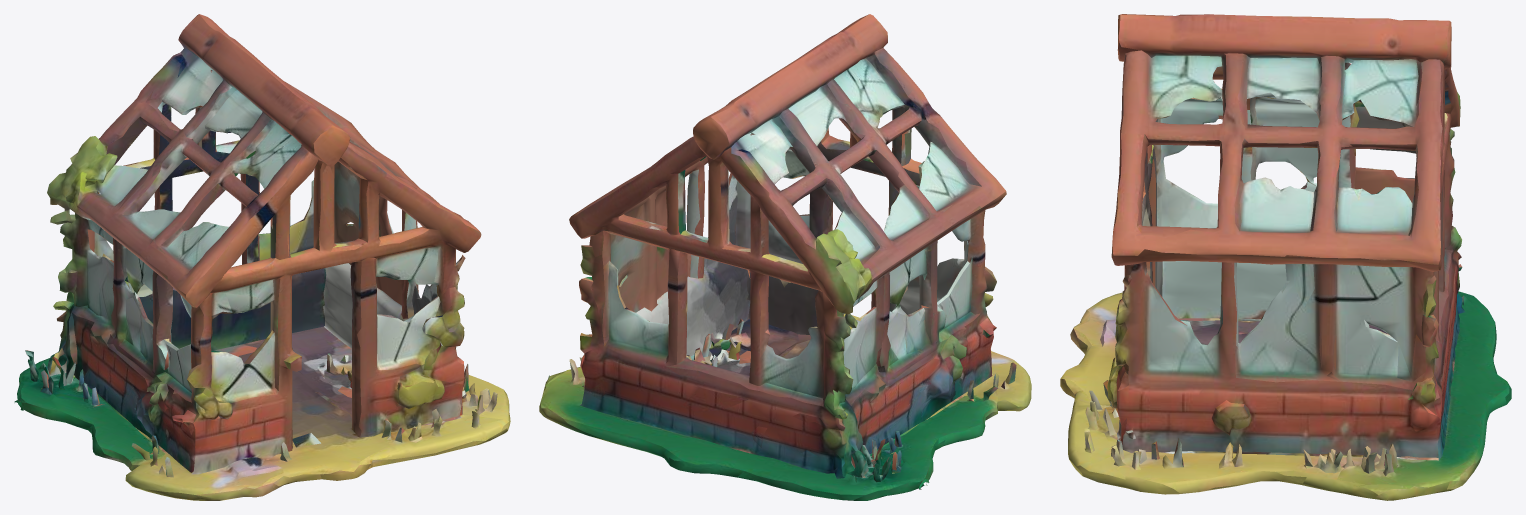
File: greenhouse_ruin.glb
3 views of the same model, side by side, from view 1: azimuth 30°, elevation 25°; view 2: azimuth 150°, elevation 25°; view 3: azimuth 270°, elevation 25° (orthographic). The views are drawn at different scales.
Parts seen in each view (by area): view 1: greenhouse_ruin_s15; view 2: greenhouse_ruin_s15; view 3: greenhouse_ruin_s15.
Part boxes in pixels (<box>): greenhouse_ruin_s15: <box>14,14,510,500</box>; greenhouse_ruin_s15: <box>539,14,1031,500</box>; greenhouse_ruin_s15: <box>1060,14,1511,500</box>.
Size of the model in its own units: 1 by 0.8243 by 0.8923.
1 material, 1 textured.
